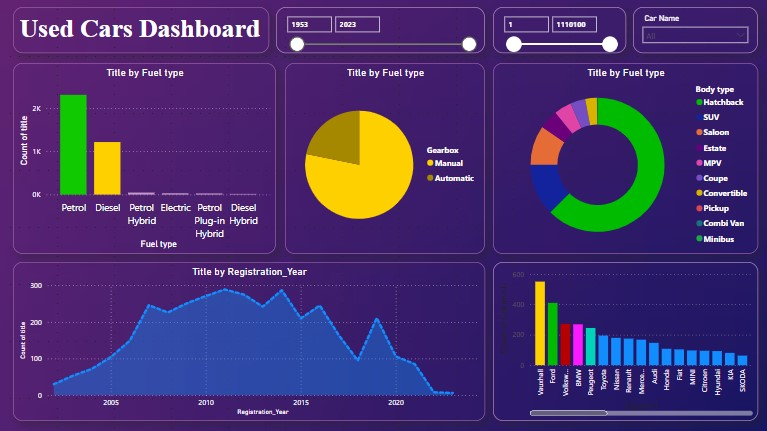

The page's visual inventory and layout, read from the dashboard file:
{"tool":"powerbi","page":{"name":"Page 1","canvas":[1280,720],"ordinal":0},"visuals":[{"type":"textbox","box":[21.7,13.3,426.7,76.7],"z":0},{"type":"stackedAreaChart","title":"Title by Registration_Year","fields":{"Category":["Used-Car-new.Registration_Year"],"Y":["CountNonNull(Used-Car-new.title)"]},"box":[21.7,438.3,786.7,265],"z":1000},{"type":"columnChart","title":"Title by Fuel type","fields":{"Category":["Used-Car-new.Fuel type"],"Y":["CountNonNull(Used-Car-new.title)"]},"box":[21.7,106.7,438.3,318.3],"z":2000},{"type":"pieChart","title":"Title by Fuel type","fields":{"Category":["Used-Car-new.Gearbox"],"Y":["CountNonNull(Used-Car-new.title)"]},"box":[475,106.7,333.3,318.3],"z":2001},{"type":"donutChart","title":"Title by Fuel type","fields":{"Y":["CountNonNull(Used-Car-new.title)"],"Category":["Used-Car-new.Body type"]},"box":[821.7,106.7,441.7,318.3],"z":2002},{"type":"slicer","fields":{"Values":["Used-Car-new.Registration_Year"]},"box":[460,13.3,348.3,76.7],"z":2003},{"type":"slicer","fields":{"Values":["Used-Car-new.Mileage(miles)"]},"box":[821.7,13.3,221.7,76.7],"z":2004},{"type":"clusteredColumnChart","fields":{"Category":["Used NEWW.Column1"],"Y":["CountNonNull(Used NEWW.Column1)"]},"box":[822,438,442,265],"z":2005},{"type":"slicer","fields":{"Values":["Used NEWW.Column1"]},"box":[1055,13.3,208.3,76.7],"z":2006}]}

Visuals, with their boxes in screenshot pixels (x1, y1, x2, y2), scaled from the page's 1280x720 canvas onto the 767x431 screenshot:
textbox: select_region(13, 8, 269, 54)
"Title by Registration_Year" stackedAreaChart: select_region(13, 262, 484, 421)
"Title by Fuel type" columnChart: select_region(13, 64, 276, 254)
"Title by Fuel type" pieChart: select_region(285, 64, 484, 254)
"Title by Fuel type" donutChart: select_region(492, 64, 757, 254)
slicer - Used-Car-new.Registration_Year: select_region(276, 8, 484, 54)
slicer - Used-Car-new.Mileage(miles): select_region(492, 8, 625, 54)
clusteredColumnChart - Used NEWW.Column1 x CountNonNull(Used NEWW.Column1): select_region(493, 262, 757, 421)
slicer - Used NEWW.Column1: select_region(632, 8, 757, 54)
